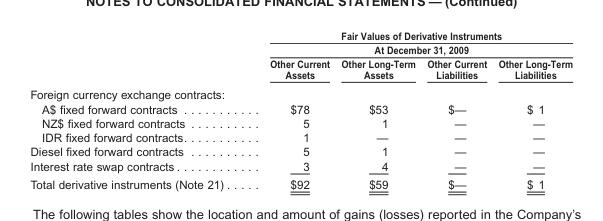table: (29, 29, 571, 190)
table column: (29, 29, 249, 190), (334, 29, 420, 190), (249, 29, 334, 190), (491, 29, 571, 190), (420, 29, 491, 190)
table column header: (29, 29, 571, 83)
table projected row header: (29, 83, 571, 101)
table row: (29, 29, 571, 56), (29, 56, 571, 83), (29, 83, 571, 101), (29, 158, 571, 174), (29, 174, 571, 190), (29, 129, 571, 144), (29, 101, 571, 115), (29, 115, 571, 129), (29, 144, 571, 158)
table spanning cell: (249, 29, 571, 56)
